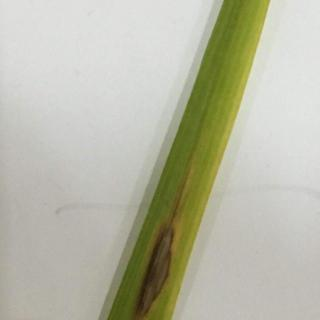Blast: (142, 211, 177, 320)
